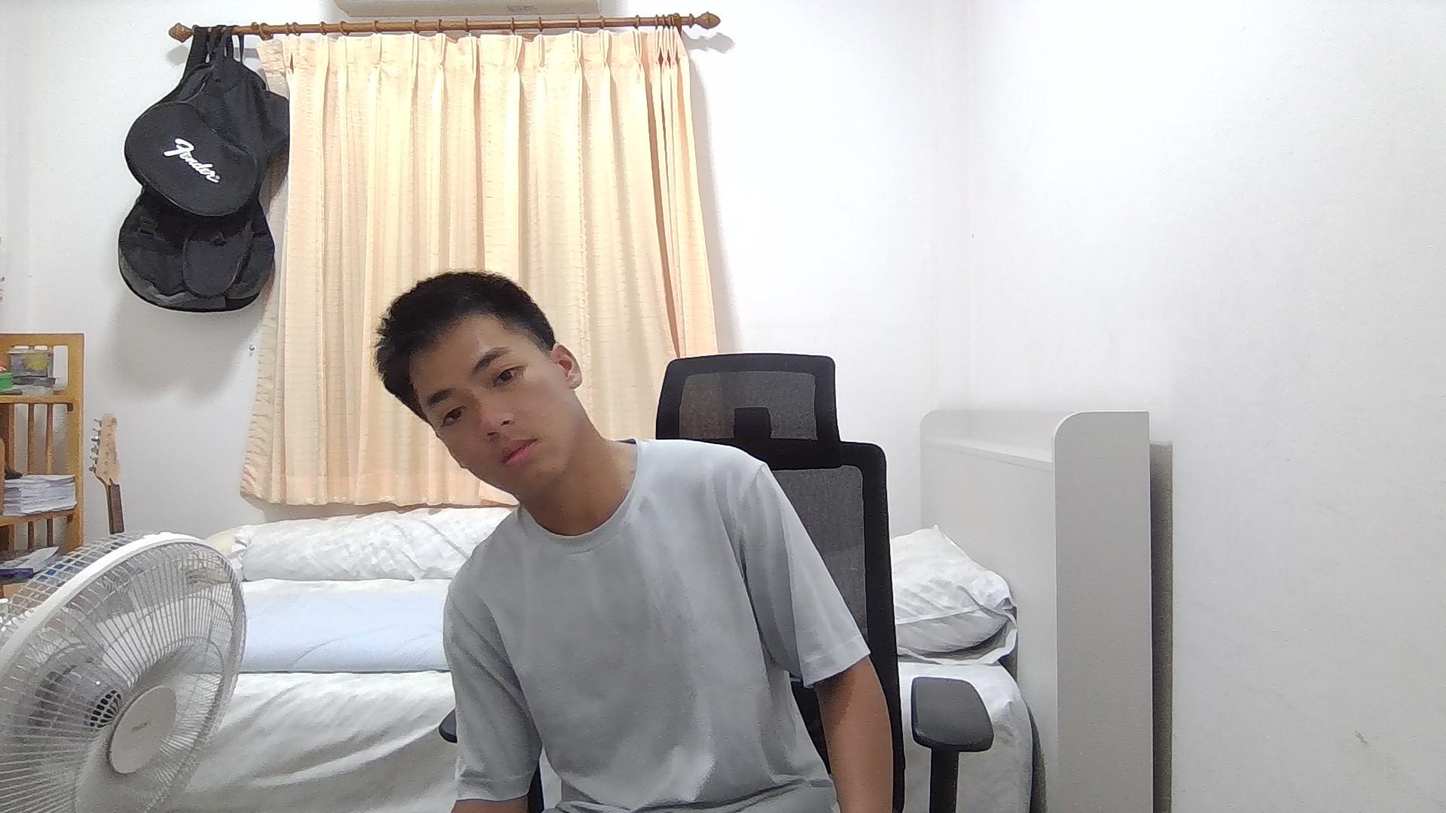BadPosture: (377, 272, 892, 812)
